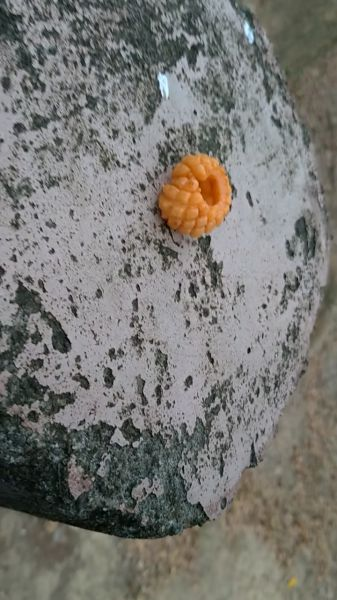eggs: (153, 147, 241, 238)
